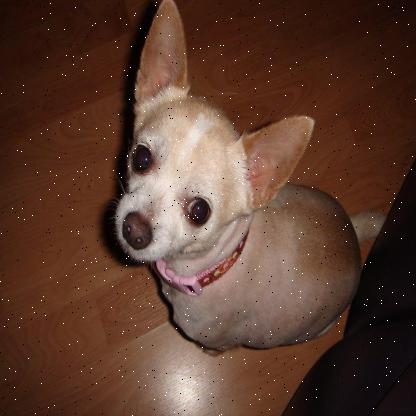dog: (110, 2, 369, 358)
